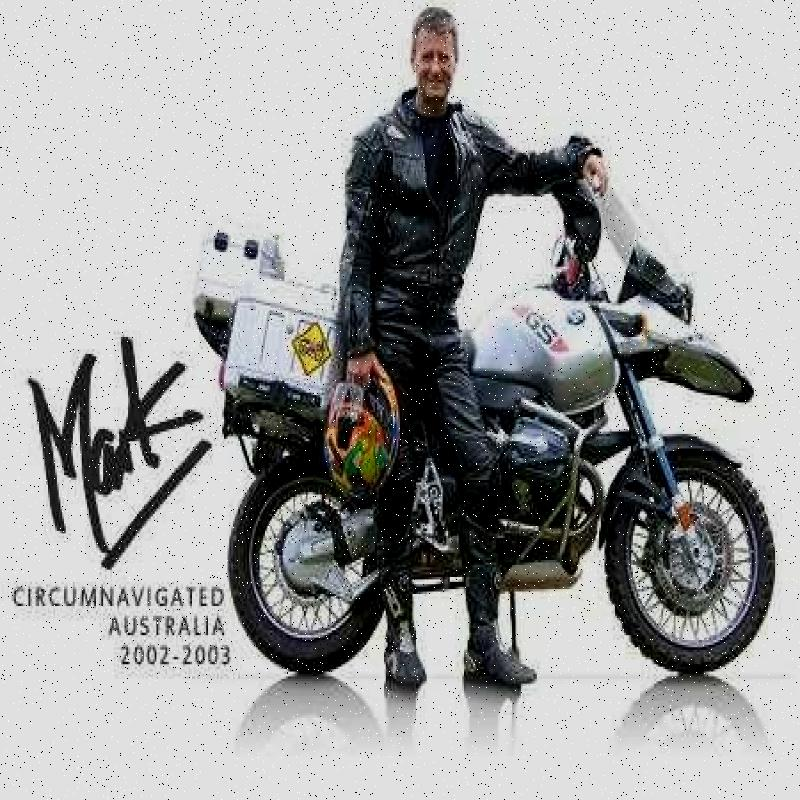bike: (166, 162, 786, 694)
